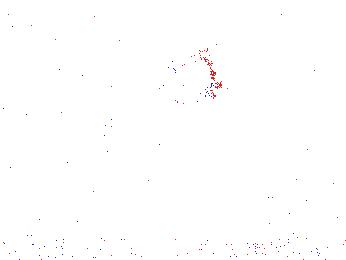flame jellyfish: (279, 171, 346, 226), (162, 55, 223, 105), (219, 159, 274, 206)
